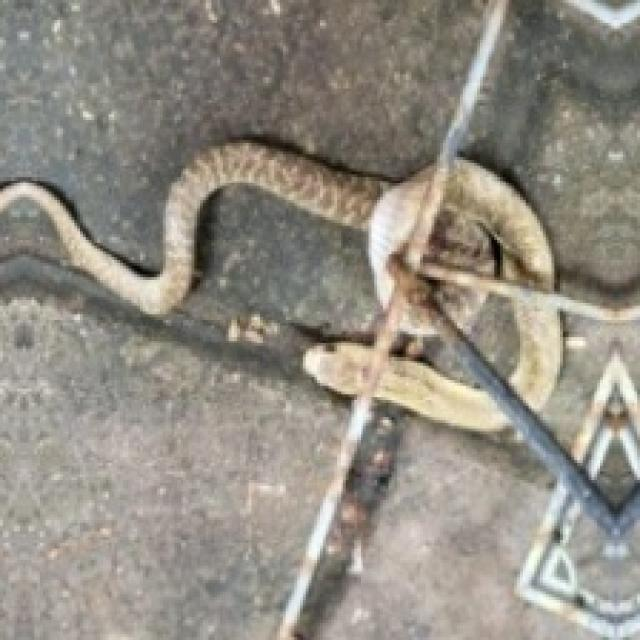philippine cobra: (0, 140, 431, 311), (426, 160, 551, 289), (375, 356, 508, 432), (377, 357, 506, 429), (509, 301, 562, 409), (302, 341, 371, 396)
